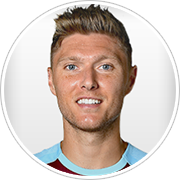face: (43, 41, 138, 129)
